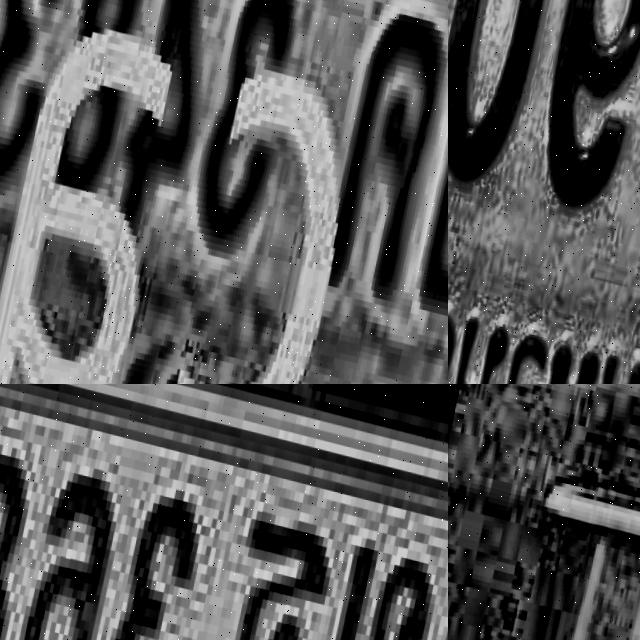license-plate: (0, 0, 448, 384), (0, 384, 448, 640), (448, 0, 640, 384), (564, 460, 640, 640)
